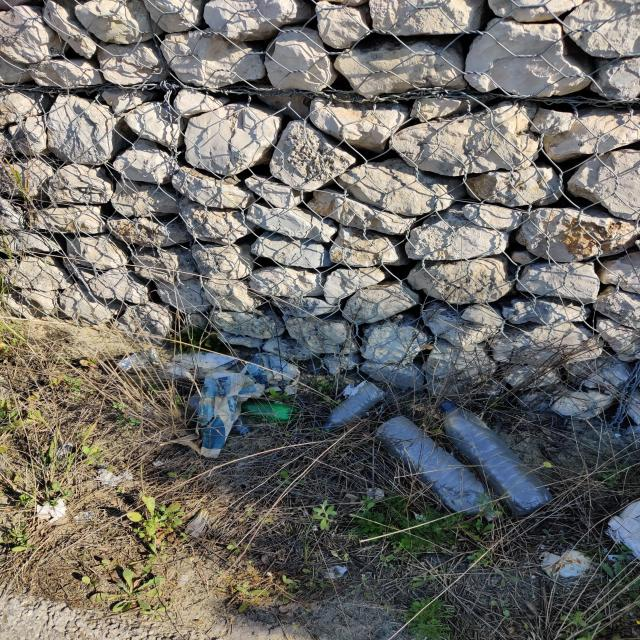litter: (375, 415, 502, 521), (439, 401, 553, 516), (169, 371, 267, 458), (322, 382, 387, 430), (185, 393, 252, 435), (608, 501, 639, 559), (539, 548, 595, 580), (242, 398, 299, 422), (118, 349, 160, 374), (36, 499, 66, 523), (183, 510, 208, 536), (96, 469, 133, 486), (325, 565, 347, 579), (367, 488, 384, 499)
